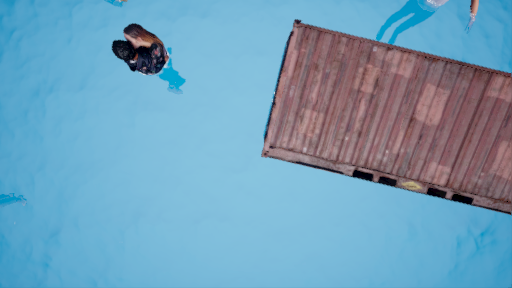person: (111, 23, 193, 97)
